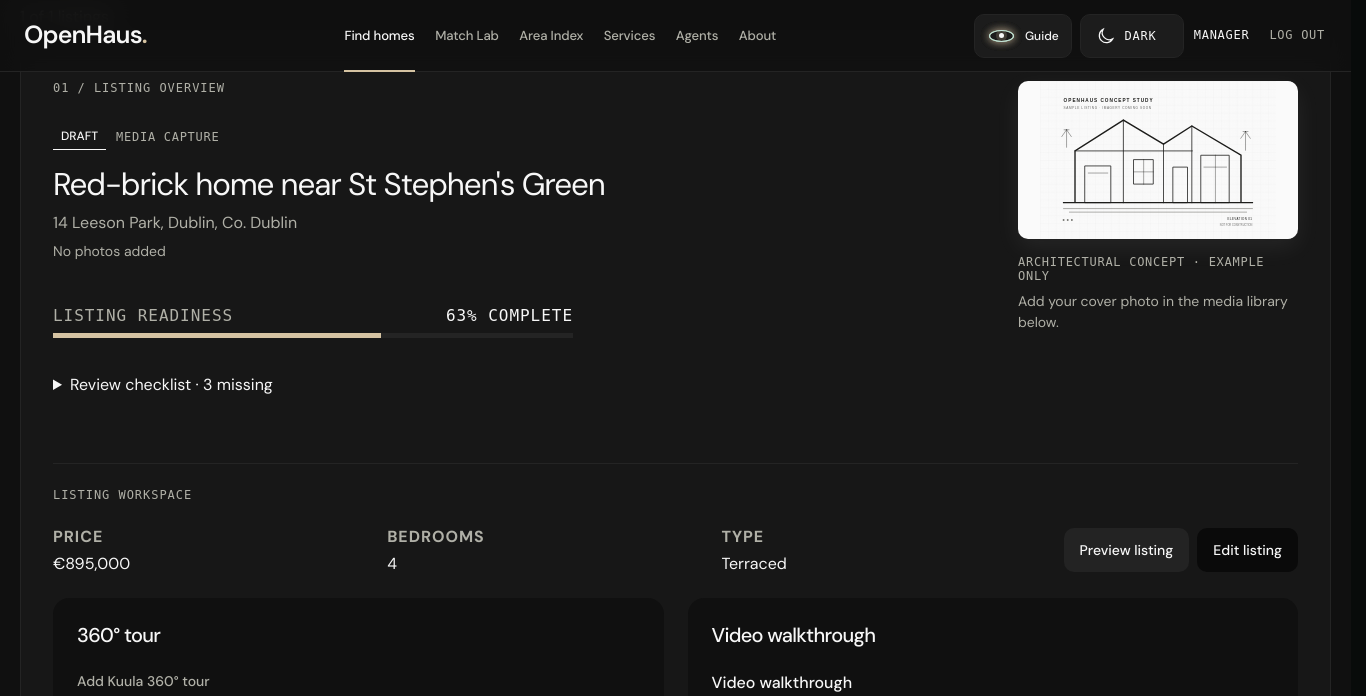
Test: manager application › explains the readiness score with missing media and completed facts
(page scrolled)
Click the heading "Review checklist · 3 missing": [171, 384] box 70,374 -> 273,395
(page scrolled)
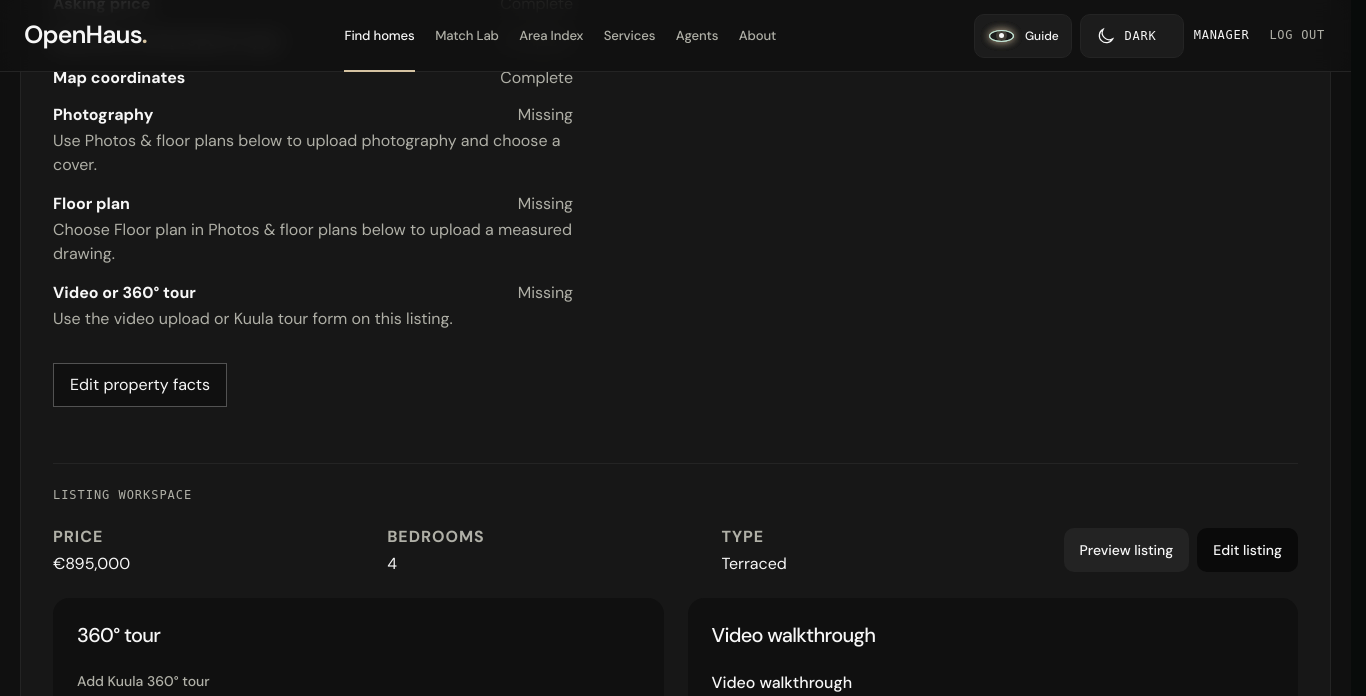
Click the button "Edit property facts": [140, 385] box 53,363 -> 227,407
(page scrolled)
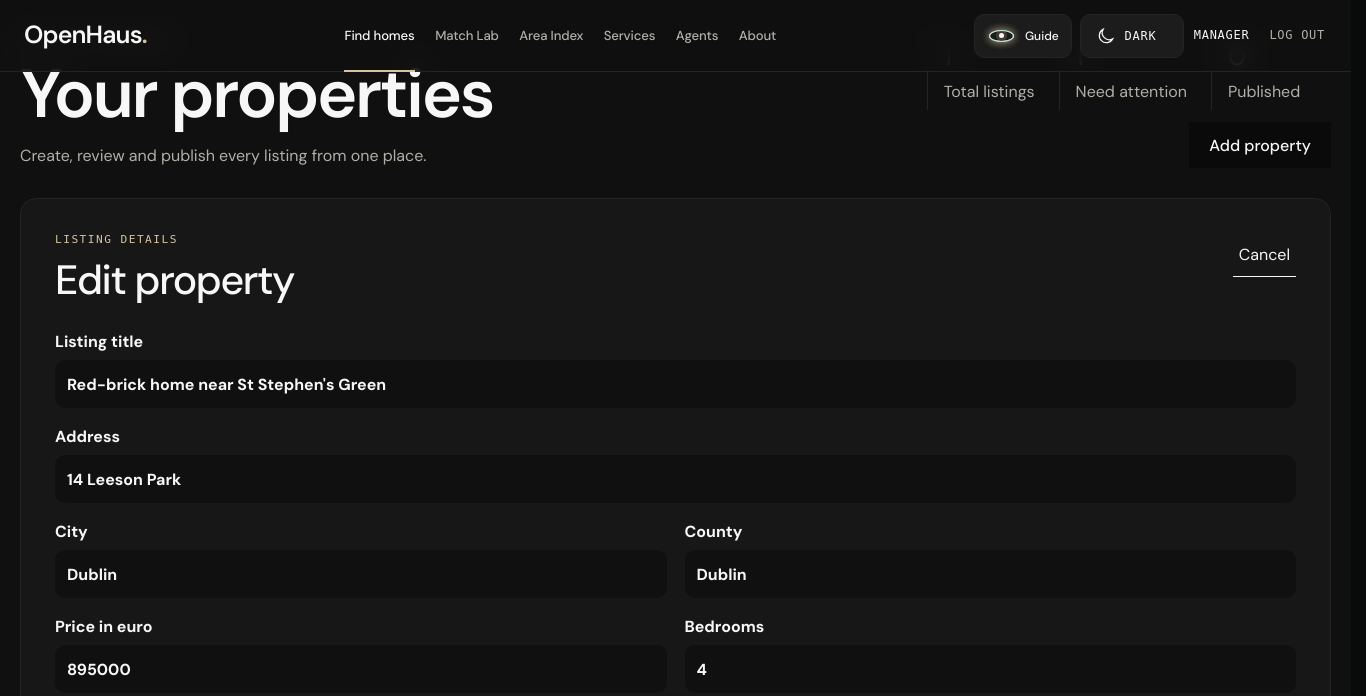
Expected: the field labelled "Listing title" holds "Red-brick home near St Stephen's Green", 55,360 -> 1296,408
